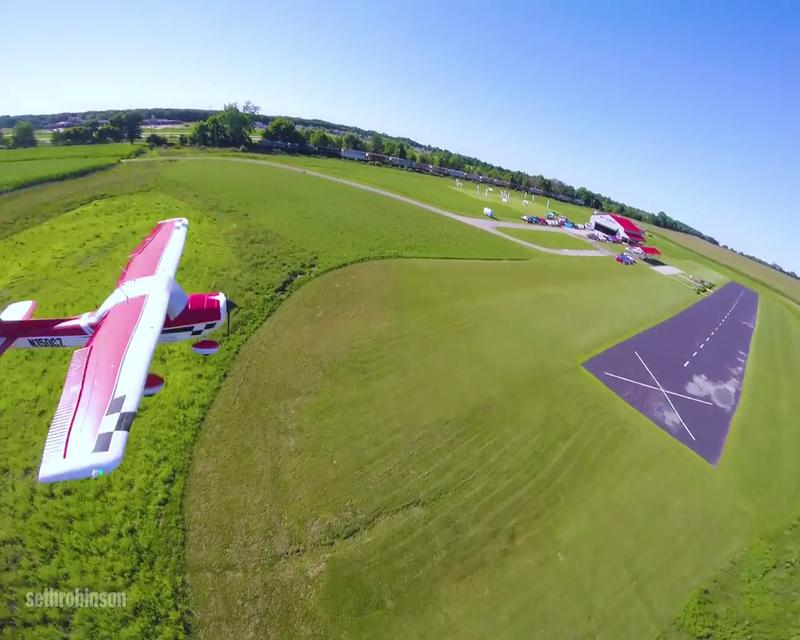UAV: (0, 215, 238, 483)
